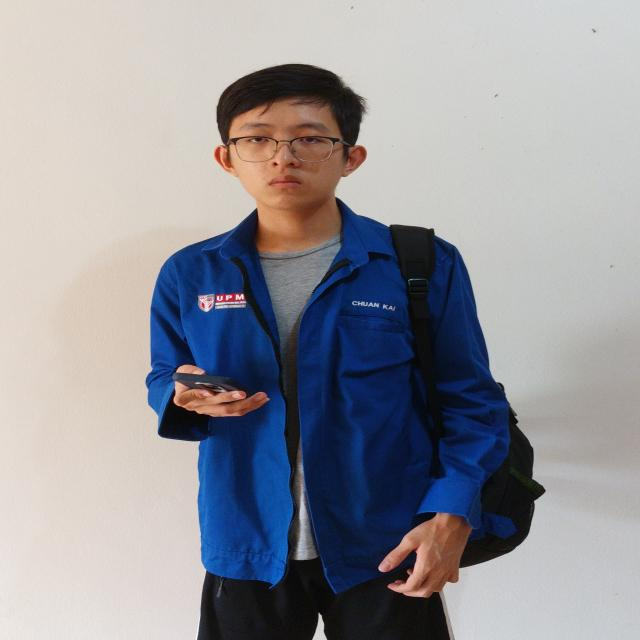person_with_labcoat: (146, 64, 544, 640)
